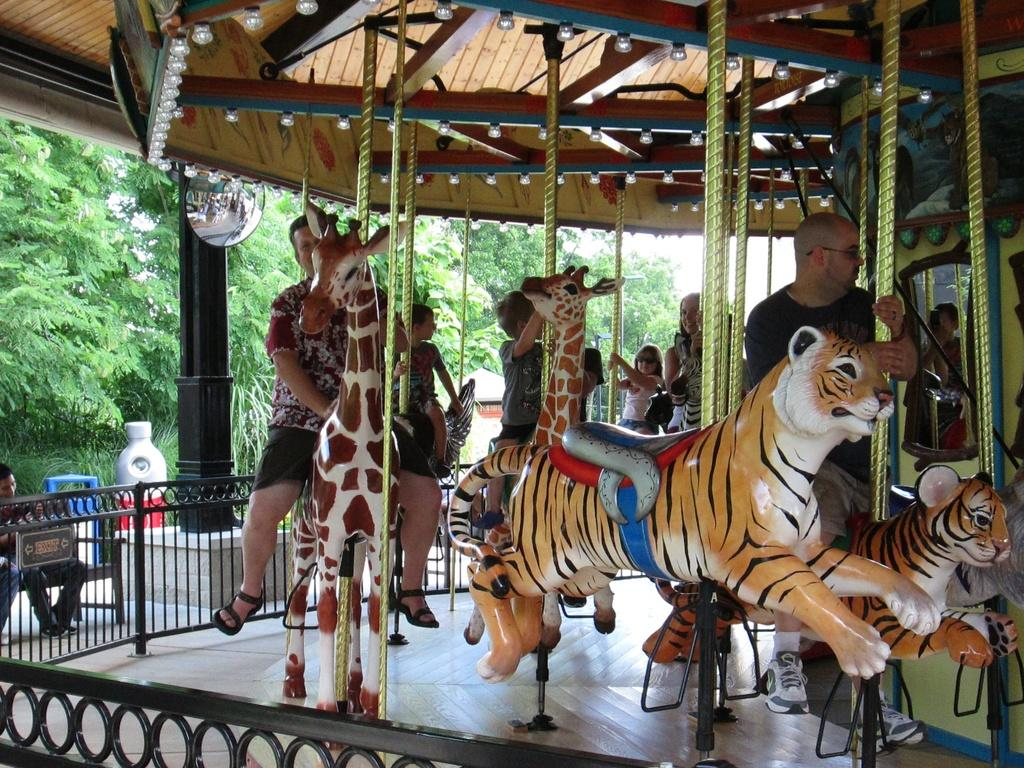Sem Máscara: (823, 220, 863, 293), (292, 223, 317, 276), (633, 348, 655, 374), (680, 299, 696, 332), (422, 305, 433, 338)
